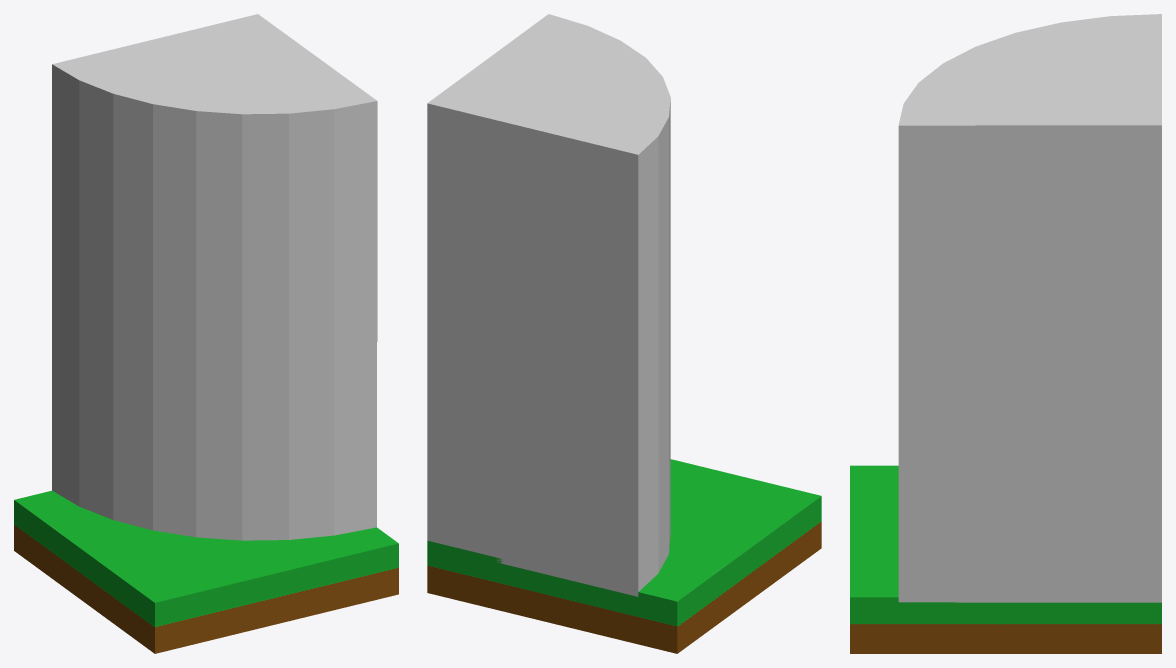
The model's file is partialCover.fbx.
3 renders of one model, left to right at view 1: azimuth 30°, elevation 25°; view 2: azimuth 150°, elevation 25°; view 3: azimuth 270°, elevation 25°, orthographic. The views are drawn at different scales.
Visible parts, largest first — view 1: Cilindro.003, Cubo; view 2: Cilindro.003, Cubo; view 3: Cilindro.003, Cubo.
Boxes of the visible parts, x1,y1,x2,y2 form: Cilindro.003: (52, 14, 377, 540); Cubo: (14, 490, 398, 653); Cilindro.003: (427, 14, 670, 596); Cubo: (427, 459, 821, 653); Cilindro.003: (898, 14, 1161, 602); Cubo: (850, 465, 1161, 653).
Bounding box in the file's own units: 200 × 374 × 200.
Materials: 1 (1 with a texture image).
